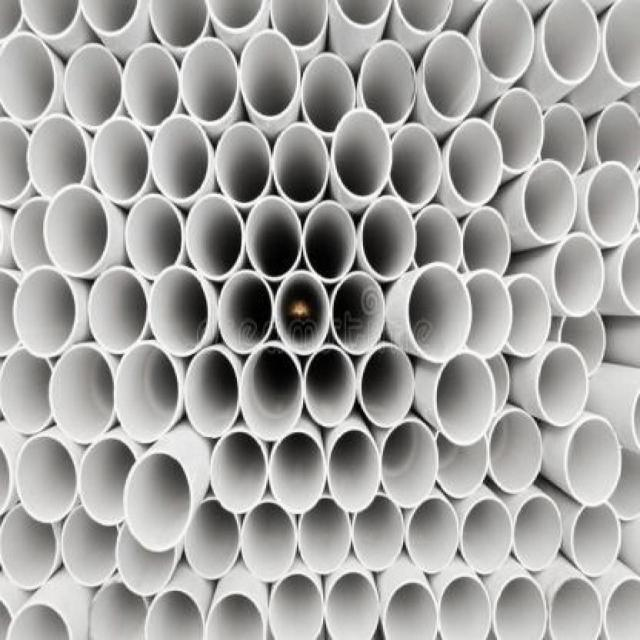pipe: (123, 452, 193, 551), (48, 343, 115, 445), (405, 263, 473, 363), (115, 342, 180, 444), (43, 182, 110, 278), (241, 343, 304, 442), (434, 350, 497, 447), (12, 266, 79, 357), (147, 264, 210, 357), (331, 107, 393, 200), (14, 435, 79, 523), (239, 28, 299, 121), (88, 265, 149, 355), (0, 30, 57, 126), (179, 36, 239, 127), (150, 114, 210, 204), (564, 418, 623, 508), (78, 437, 137, 527), (422, 31, 480, 122), (28, 113, 88, 200), (63, 44, 123, 131), (92, 116, 151, 204), (446, 117, 503, 208), (124, 193, 184, 279), (541, 0, 601, 86), (380, 420, 438, 508), (186, 193, 243, 281), (0, 503, 57, 591), (360, 39, 417, 127), (123, 43, 180, 131), (61, 502, 120, 587), (184, 347, 239, 438), (273, 121, 330, 208), (246, 196, 303, 282), (360, 196, 417, 282), (210, 430, 269, 513), (270, 430, 327, 515), (0, 346, 54, 435), (215, 123, 272, 207), (274, 271, 330, 356), (488, 409, 544, 494), (301, 52, 357, 137), (478, 0, 535, 83), (115, 521, 177, 597), (491, 88, 545, 175), (183, 498, 240, 580), (302, 200, 358, 283), (389, 123, 443, 209), (522, 159, 576, 244), (551, 232, 605, 317), (218, 271, 273, 354), (331, 271, 386, 354), (464, 268, 514, 359), (585, 161, 639, 245), (241, 501, 296, 583), (328, 428, 381, 513), (535, 343, 589, 426), (360, 345, 414, 428), (304, 346, 357, 428), (298, 496, 352, 575), (406, 498, 460, 575), (353, 494, 405, 573), (462, 499, 515, 576), (513, 494, 563, 573), (571, 501, 622, 578), (268, 572, 325, 640), (506, 273, 551, 358), (324, 571, 380, 639), (538, 101, 588, 177), (435, 431, 489, 499), (89, 578, 149, 639), (492, 575, 548, 640), (437, 575, 492, 640), (461, 206, 511, 277), (548, 576, 604, 639), (413, 203, 463, 273), (594, 100, 639, 175), (383, 581, 439, 640), (144, 587, 206, 640), (558, 308, 606, 376), (602, 0, 639, 86), (148, 0, 209, 52), (268, 0, 327, 50), (205, 592, 267, 639), (0, 115, 31, 206), (19, 0, 82, 40), (7, 602, 72, 639), (80, 0, 143, 37), (603, 578, 640, 640), (205, 0, 268, 34), (393, 1, 453, 35), (618, 234, 640, 316)
